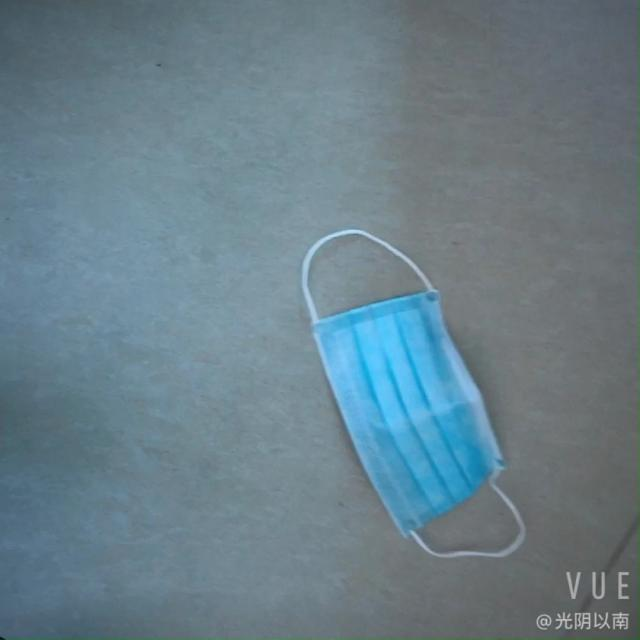non-organic waste: (305, 285, 497, 548)
